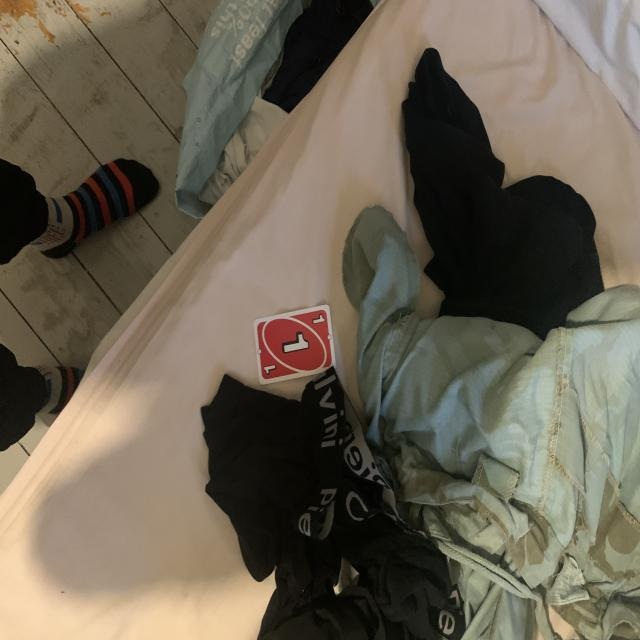lred-1: (309, 311, 327, 328)
